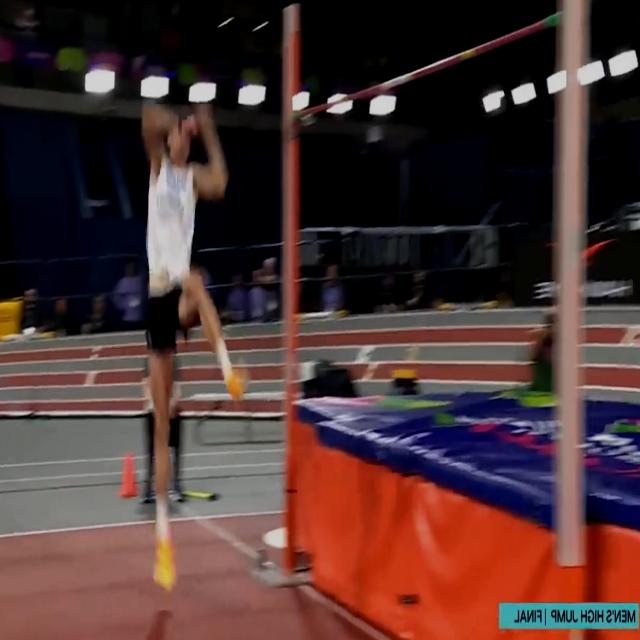jump: (142, 86, 247, 586)
